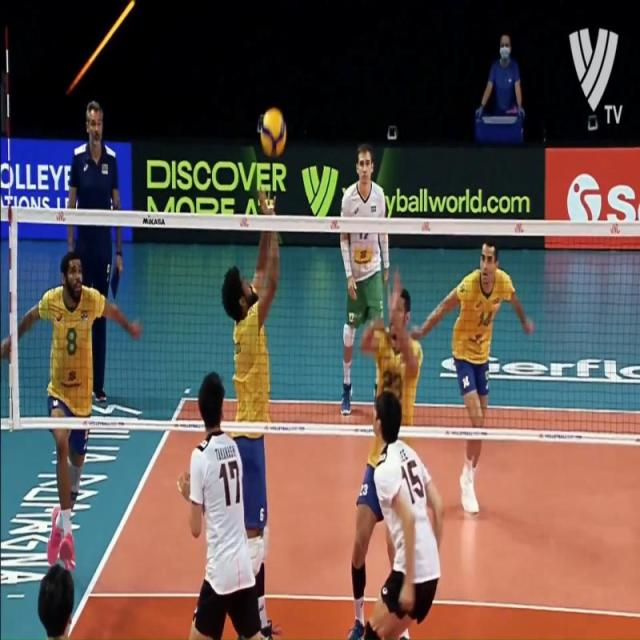volleyball: (258, 105, 289, 158)
